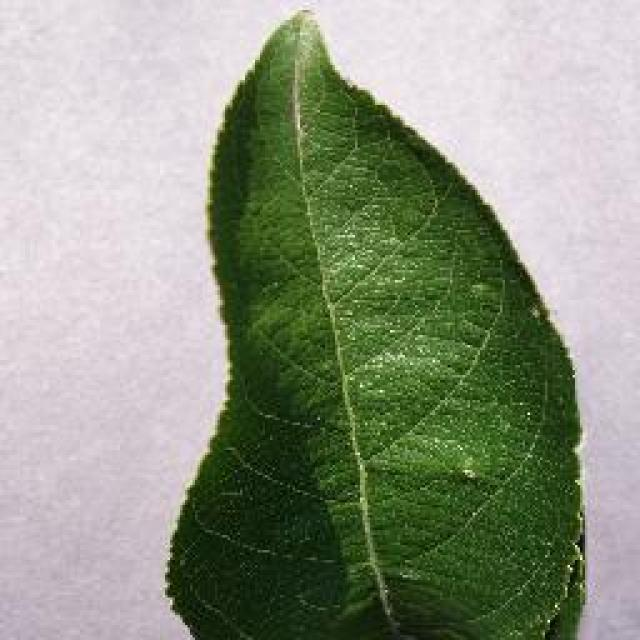apple healthy: (160, 5, 590, 637)
